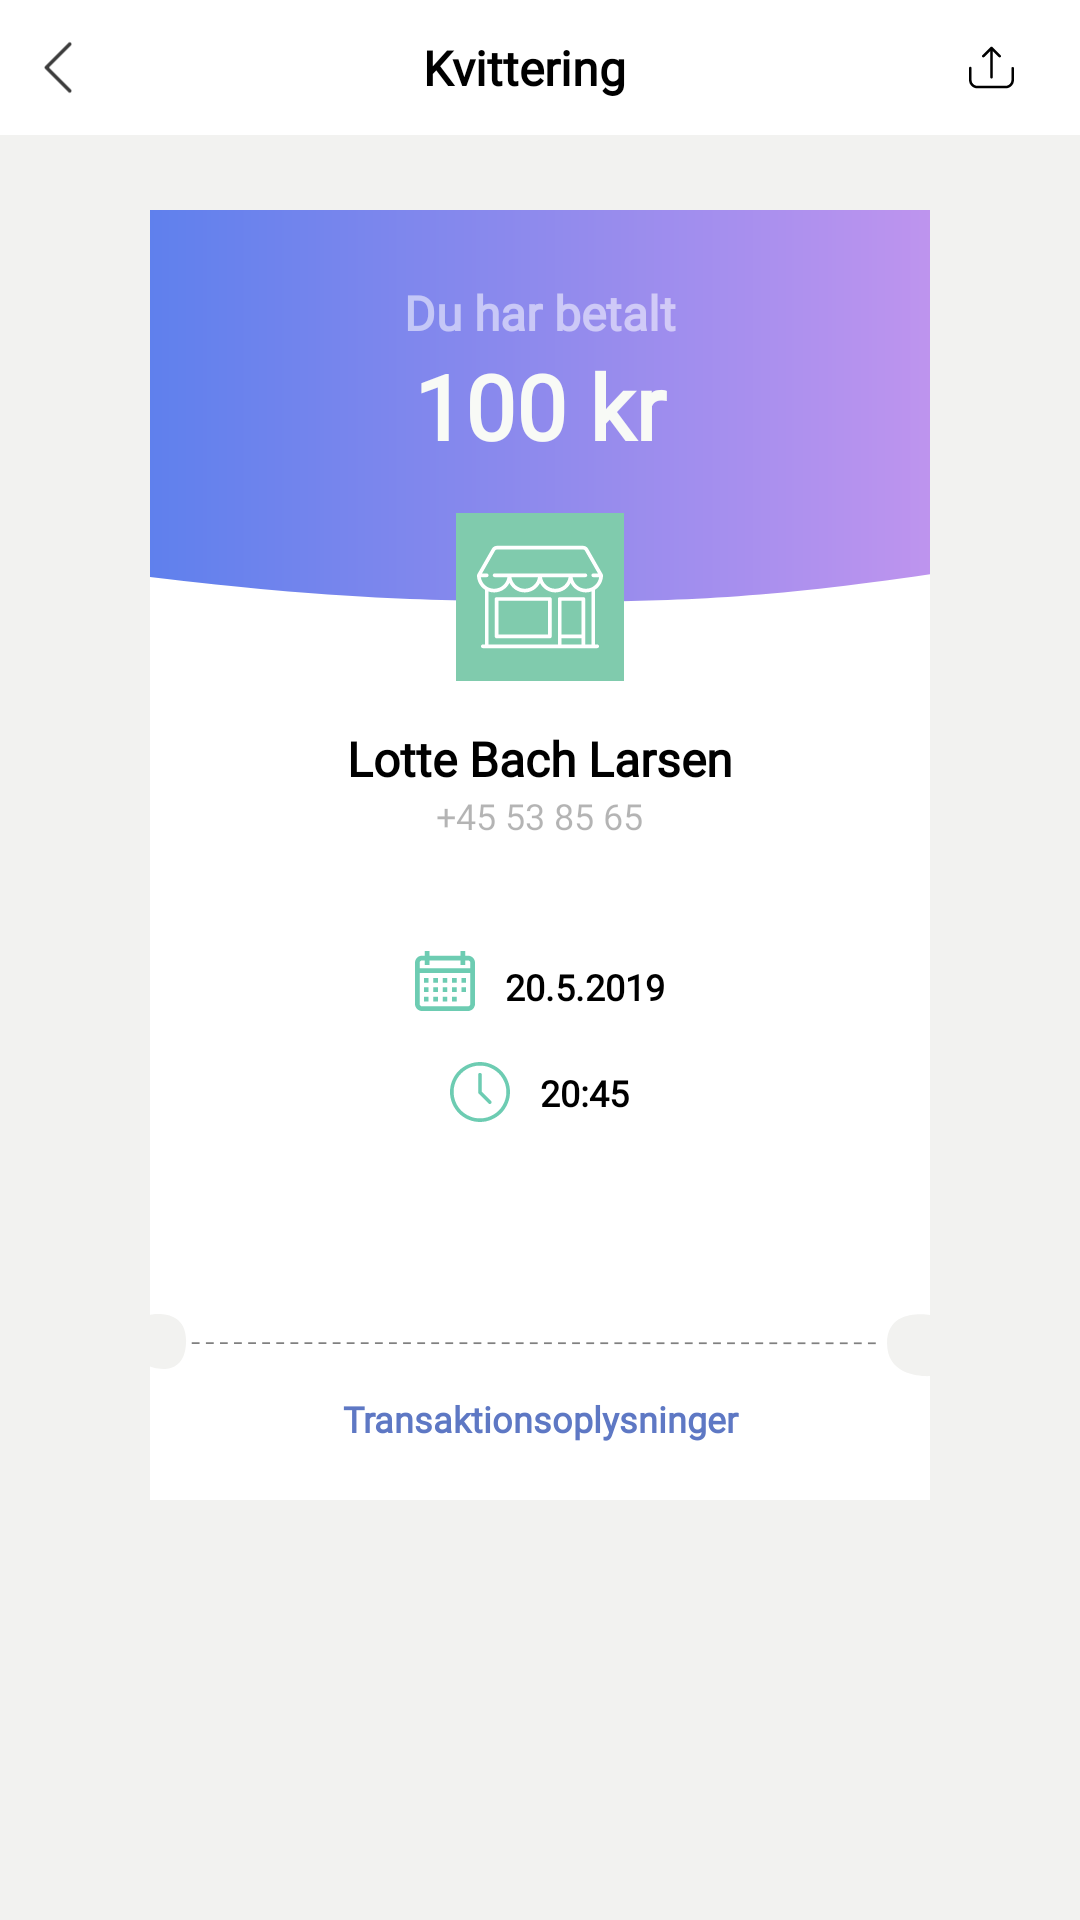

Where to tap for icons on this 1080 × 1920 app screen, as point (x, y):
business: point (540, 597)
calendar: point (445, 981)
clock: point (480, 1092)
upload: point (991, 67)
